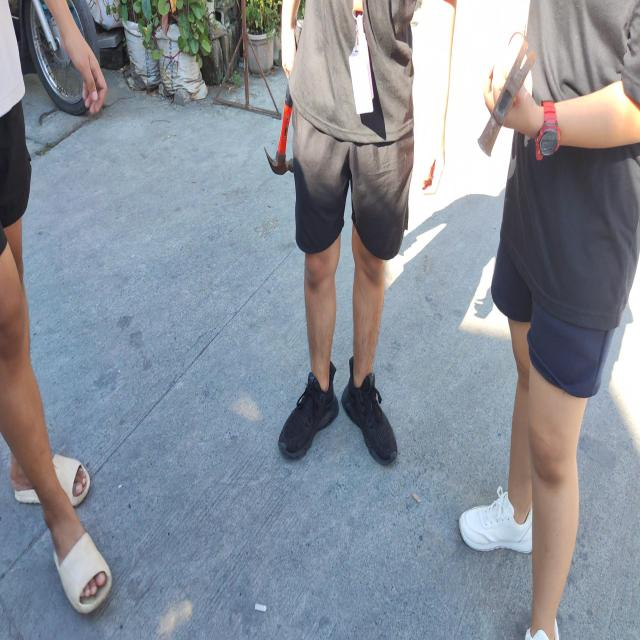hammer: (477, 38, 537, 156), (264, 18, 304, 176)
